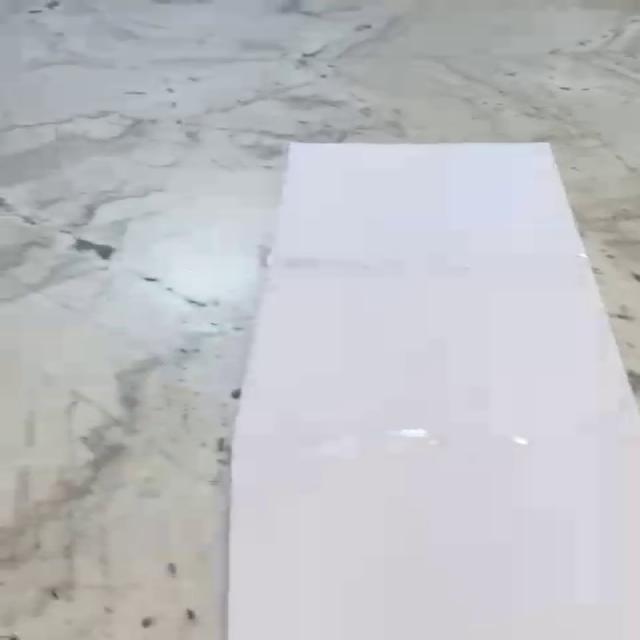road: (224, 143, 640, 640)
